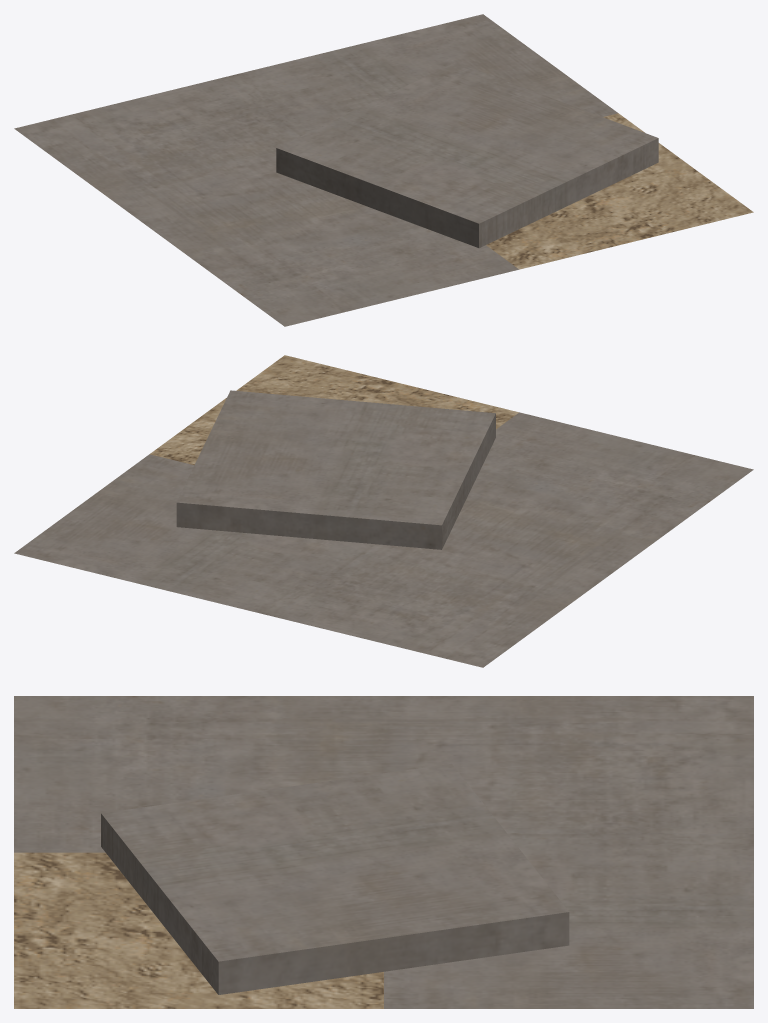
The model's file is roadDirt_damaged.fbx.
3 renders of one model, top to bottom at view 1: azimuth 30°, elevation 25°; view 2: azimuth 150°, elevation 25°; view 3: azimuth 270°, elevation 25°, orthographic. The views are drawn at different scales.
Visible parts, largest first — view 1: roadDirt_damaged; view 2: roadDirt_damaged; view 3: roadDirt_damaged.
Part boxes in pixels (x1,y1,x2,y2): roadDirt_damaged: (14, 14, 753, 326); roadDirt_damaged: (14, 355, 753, 667); roadDirt_damaged: (14, 696, 753, 1008).
Bounding box in the file's own units: 10 × 0.5 × 10.
